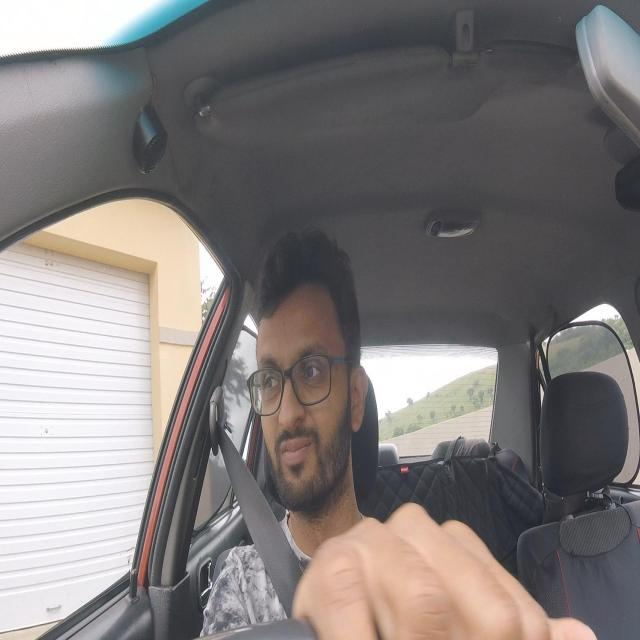open: (291, 341, 332, 407), (252, 353, 284, 409)
